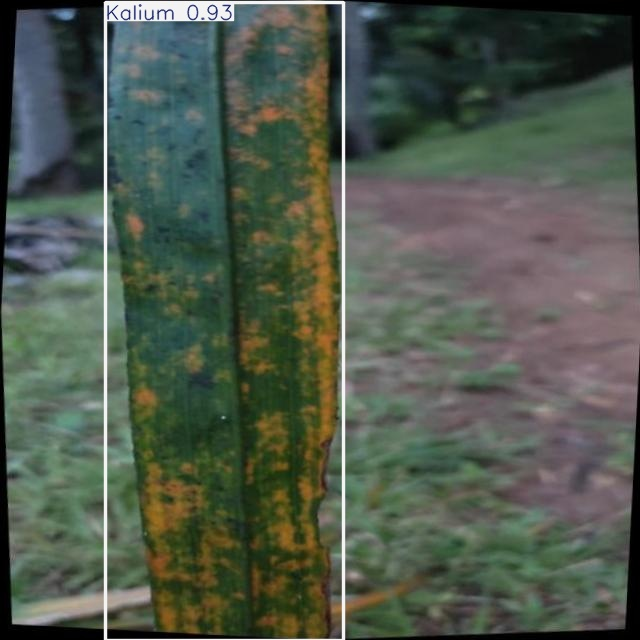Kalium: (106, 2, 344, 640)
